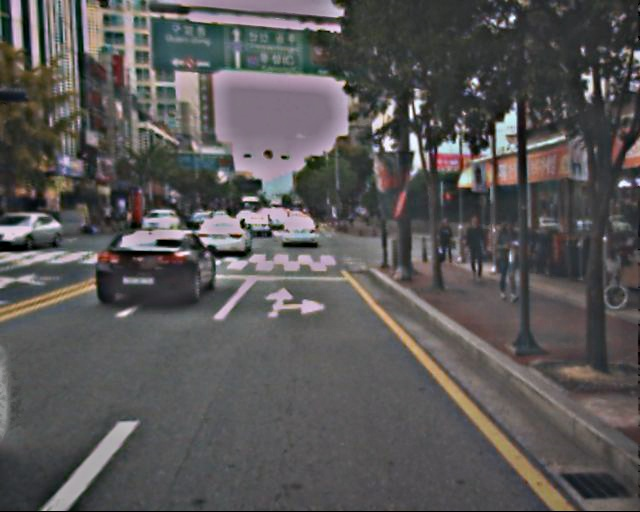person: (488, 217, 526, 301), (464, 216, 490, 281), (437, 216, 457, 267)
